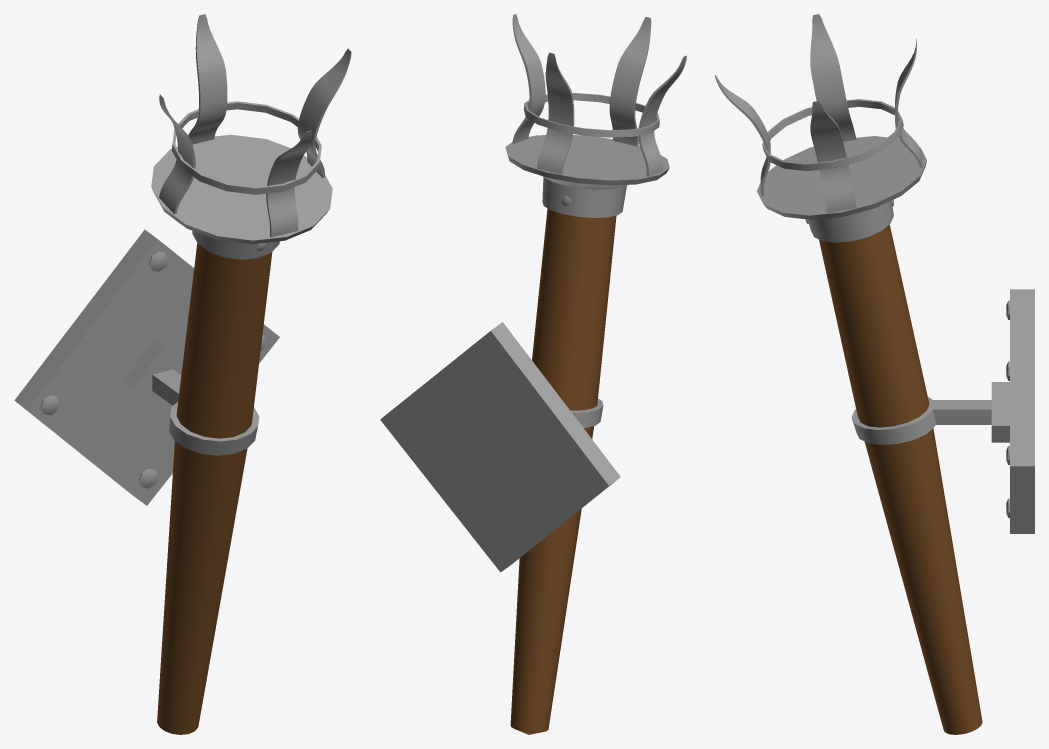
The model's file is Torch.fbx.
3 renders of one model, left to right at view 1: azimuth 30°, elevation 25°; view 2: azimuth 150°, elevation 25°; view 3: azimuth 270°, elevation 25°, orthographic. The views are drawn at different scales.
Parts seen in each view (by area): view 1: Torch; view 2: Torch; view 3: Torch.
Boxes of the visible parts, box(x1,y1,x2,y2) form: Torch: box(14, 14, 351, 734); Torch: box(380, 14, 686, 734); Torch: box(715, 14, 1034, 734).
Bounding box in the file's own units: 0.3238 × 0.8991 × 0.3758.
